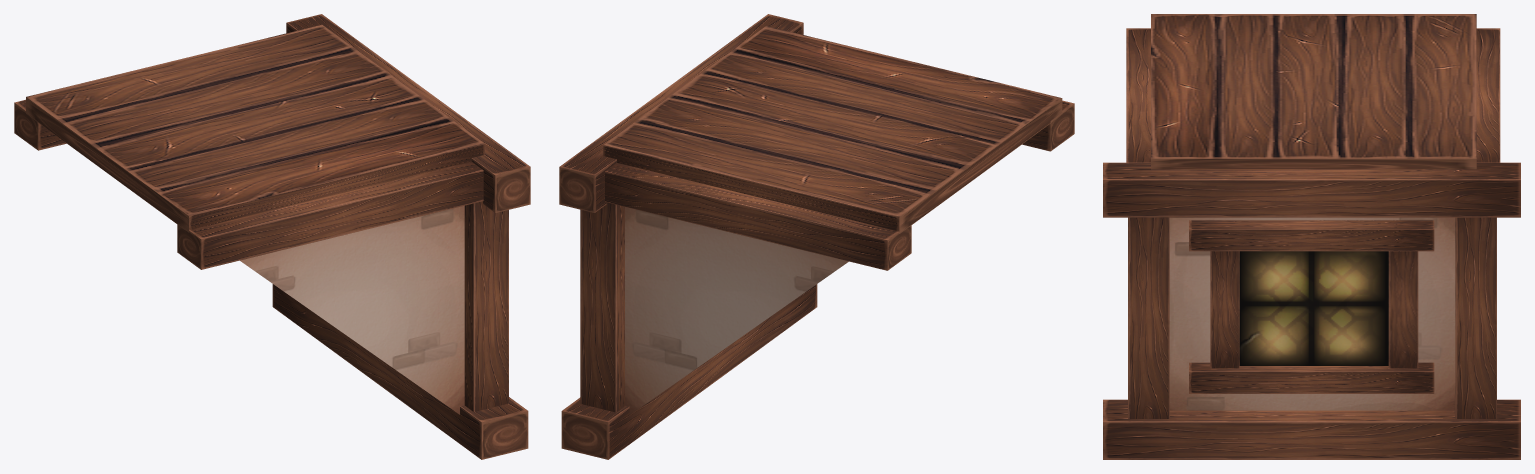
File: roofwindow.fbx
The picture shows the model from 3 angles, left to right: view 1: azimuth 30°, elevation 25°; view 2: azimuth 150°, elevation 25°; view 3: azimuth 270°, elevation 25°; orthographic projection.
Parts seen in each view (by area): view 1: polySurface45; view 2: polySurface45; view 3: polySurface45.
Part boxes in pixels (<box>): polySurface45: <box>14,14,530,459</box>; polySurface45: <box>559,14,1074,459</box>; polySurface45: <box>1103,14,1520,459</box>.
Bounding box in the file's own units: 2.98 × 2.62 × 3.4.
